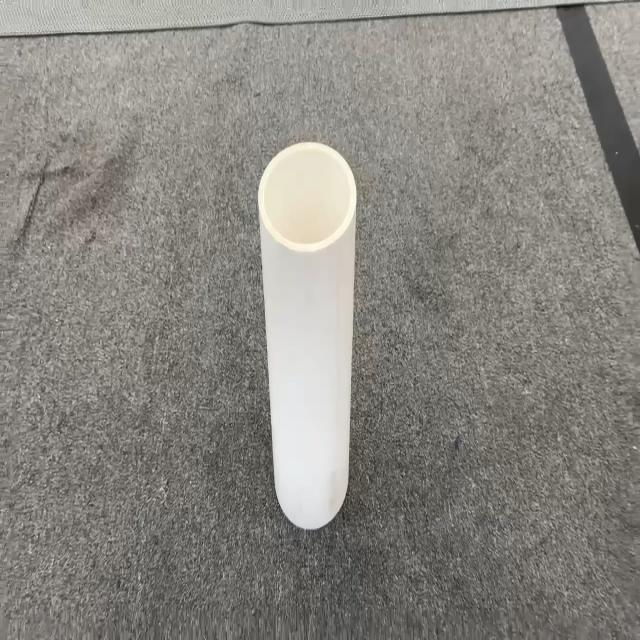coral: (256, 140, 358, 530)
